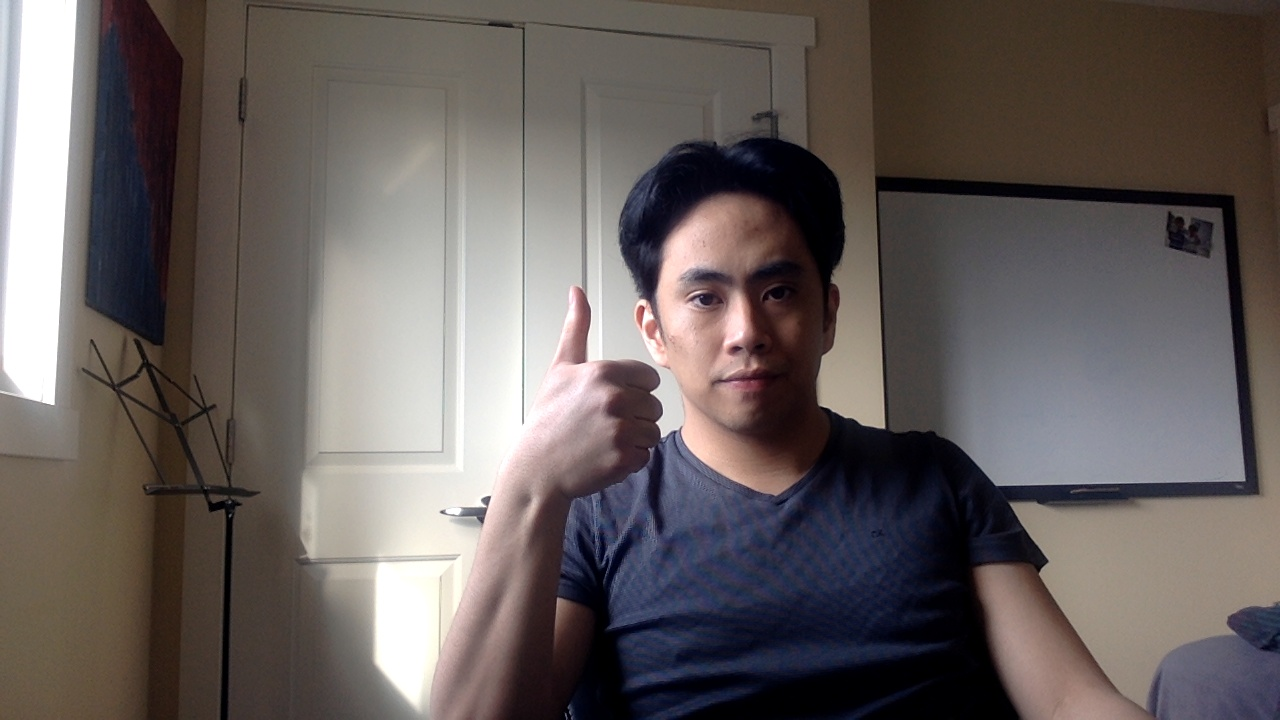ThumbsUp: (504, 285, 662, 496)
